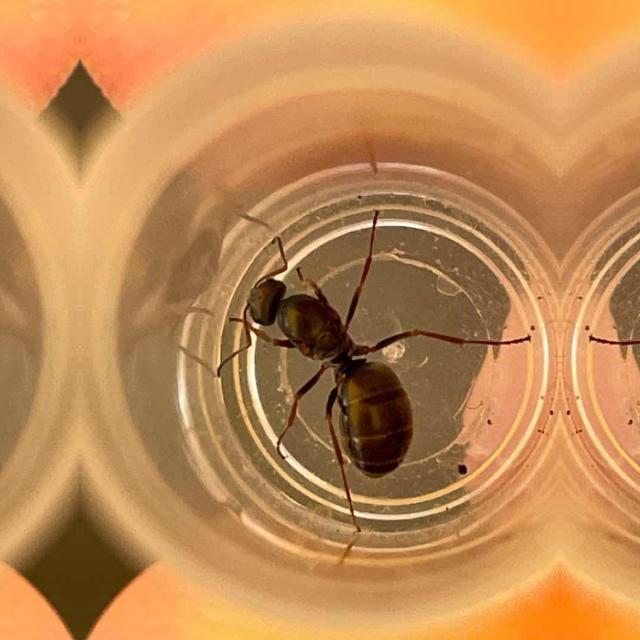Formica: (228, 230, 422, 506)
